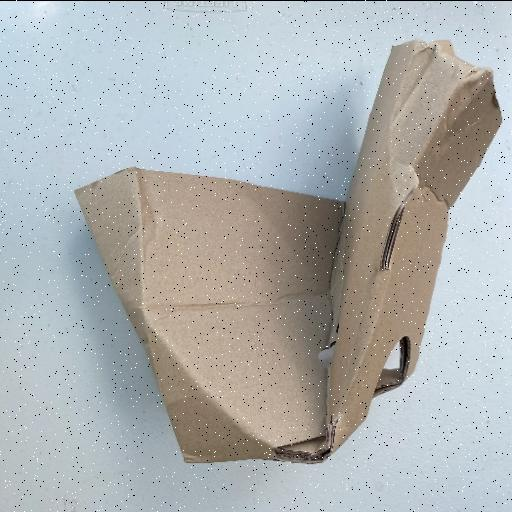Cardboard: (72, 36, 504, 466)
